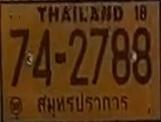2: (68, 28, 88, 85)
4: (32, 28, 51, 86)
7: (89, 27, 109, 86), (9, 28, 29, 86)
8: (110, 27, 130, 84), (132, 26, 151, 84)
SPK: (36, 90, 129, 119)
